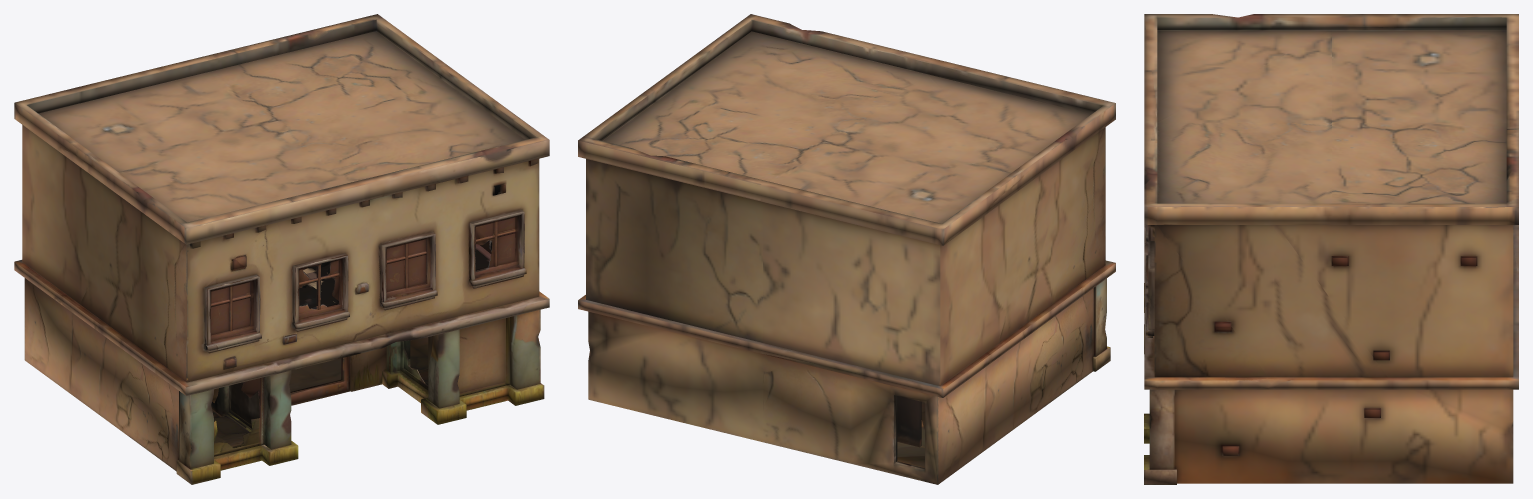
The model's file is house_4.fbx.
The picture shows the model from 3 angles, left to right: view 1: azimuth 30°, elevation 25°; view 2: azimuth 150°, elevation 25°; view 3: azimuth 270°, elevation 25°; orthographic projection. The views are drawn at different scales.
Visible parts, largest first — view 1: input; view 2: input; view 3: input.
Part boxes in pixels (bbox=[...]): input: bbox=[14, 14, 549, 484]; input: bbox=[578, 14, 1115, 484]; input: bbox=[1144, 14, 1518, 484].
Size of the model in its own units: 200 by 136 by 164.
Materials: 1 (1 with a texture image).
